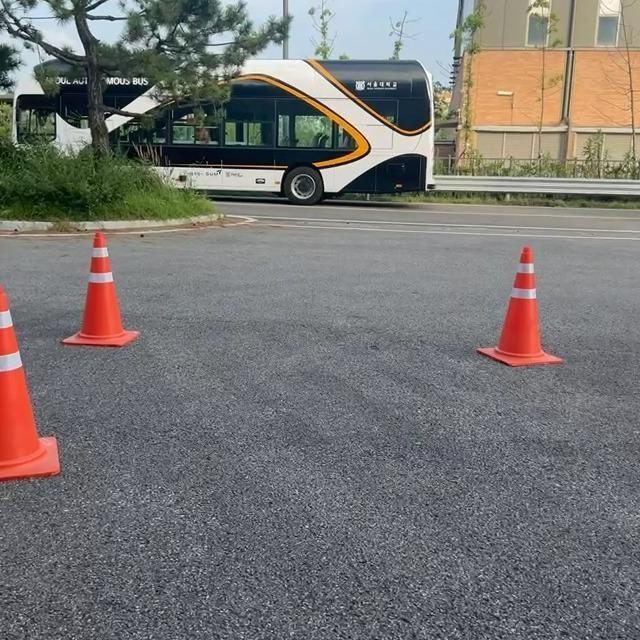fallen_object: (419, 182, 598, 410), (0, 270, 89, 562), (39, 216, 156, 376)
